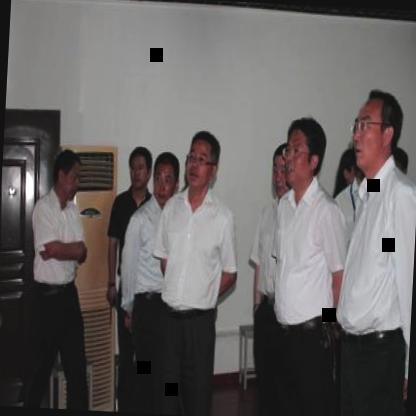head: (348, 84, 406, 174), (281, 112, 328, 192), (182, 127, 224, 196), (48, 146, 84, 202), (149, 146, 182, 204), (123, 141, 154, 195), (270, 140, 293, 195)
